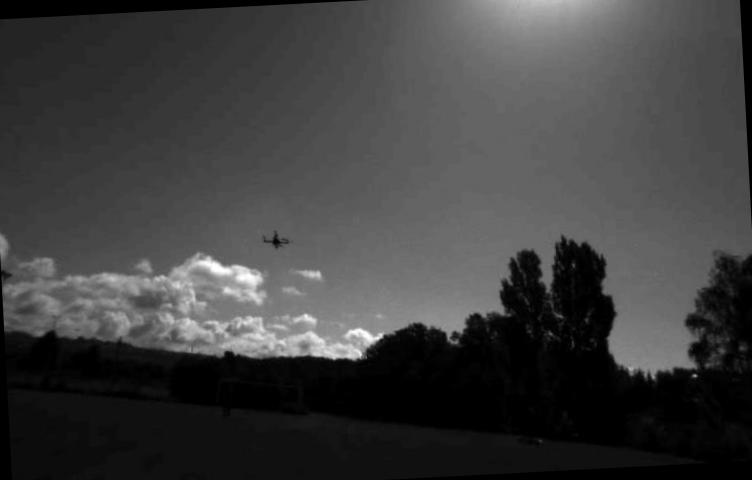drone: (260, 226, 292, 251)
